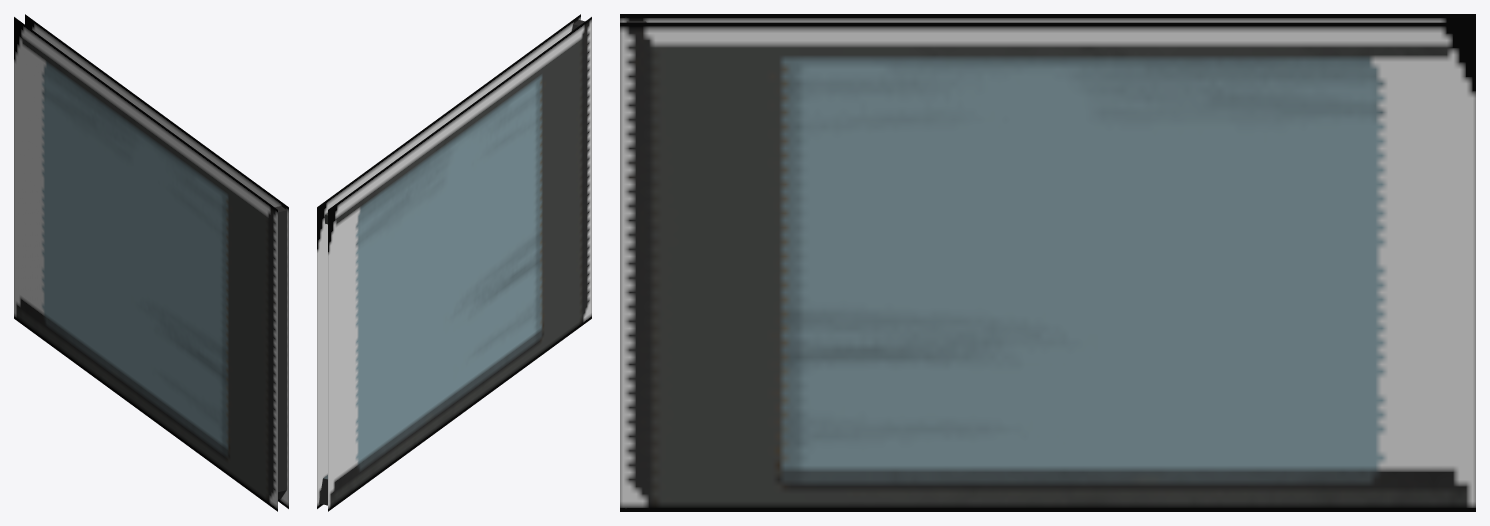
Rendered from pz_native_location_community_police_01_38_frame.obj.
The picture shows the model from 3 angles, left to right: view 1: azimuth 30°, elevation 25°; view 2: azimuth 150°, elevation 25°; view 3: azimuth 270°, elevation 25°; orthographic projection. The views are drawn at different scales.
Parts seen in each view (by area): view 1: pz_native_location_community_police_01_38_frame; view 2: pz_native_location_community_police_01_38_frame; view 3: pz_native_location_community_police_01_38_frame.
Boxes of the visible parts, bbox=[...] form: pz_native_location_community_police_01_38_frame: bbox=[14, 14, 288, 511]; pz_native_location_community_police_01_38_frame: bbox=[317, 14, 591, 511]; pz_native_location_community_police_01_38_frame: bbox=[620, 14, 1475, 511].
Size of the model in its own units: 0.04 by 1.06 by 1.68.
Materials: 1 (1 with a texture image).
